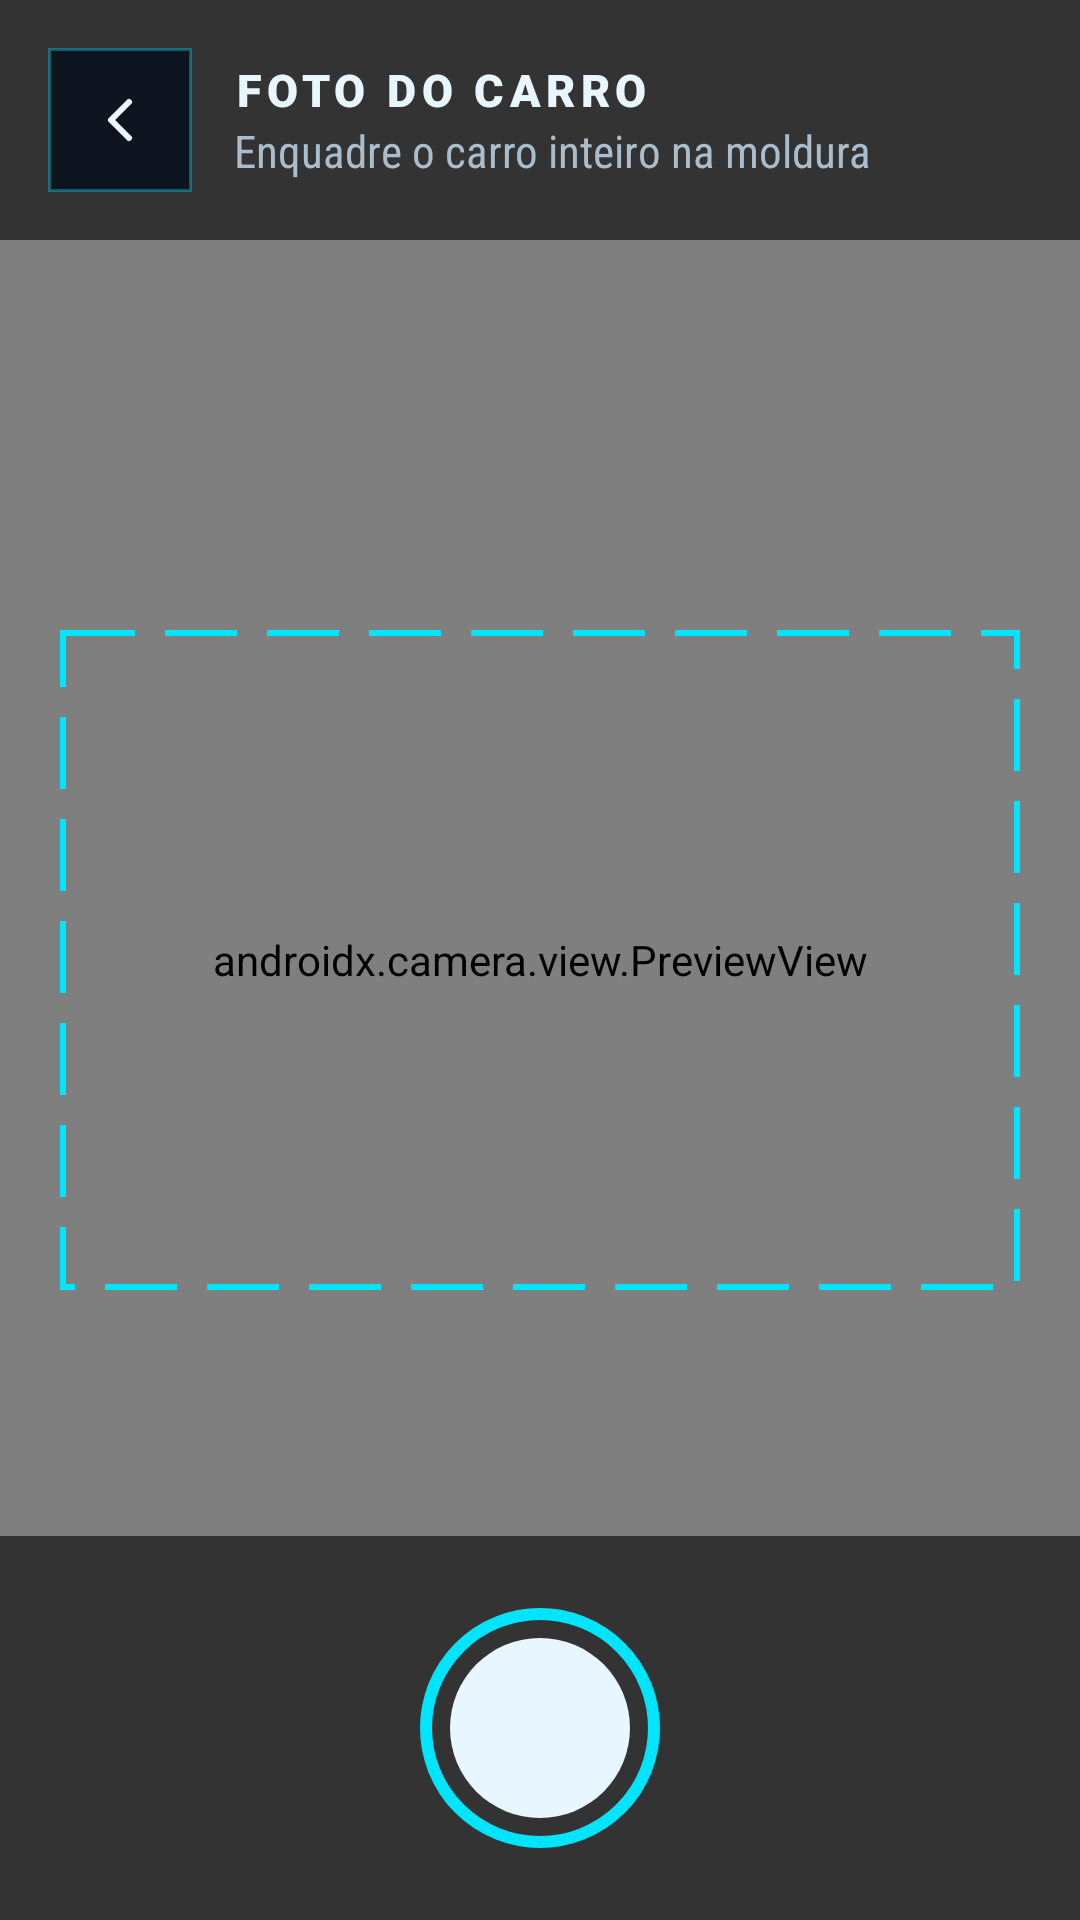

Icons on this 1080px×1920px Android screen, each with its box as (x1, y1, x2, y2):
Voltar: (48, 48, 192, 192)
